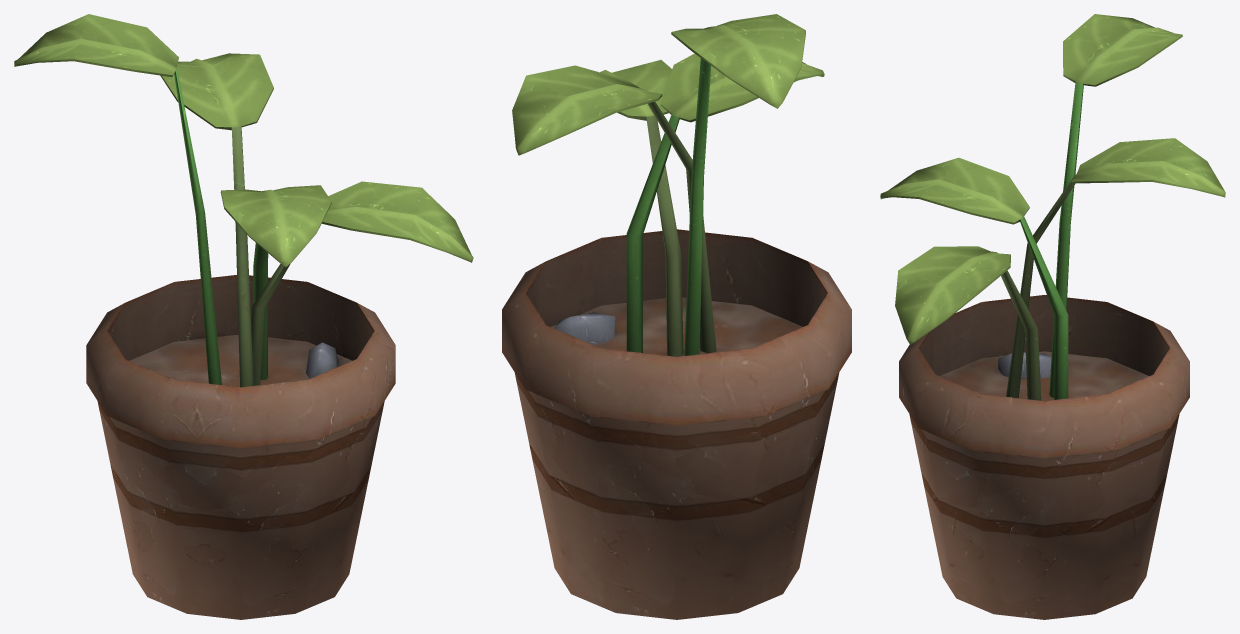
File: Plant 1.obj
The picture shows the model from 3 angles, left to right: view 1: azimuth 30°, elevation 25°; view 2: azimuth 150°, elevation 25°; view 3: azimuth 270°, elevation 25°; orthographic projection. The views are drawn at different scales.
Visible parts, largest first — view 1: Plant_1; view 2: Plant_1; view 3: Plant_1.
Boxes of the visible parts, <box> form: Plant_1: <box>14,14,473,619</box>; Plant_1: <box>502,14,851,619</box>; Plant_1: <box>880,14,1225,619</box>.
Bounding box in the file's own units: 1.52 × 2.39 × 1.5.
